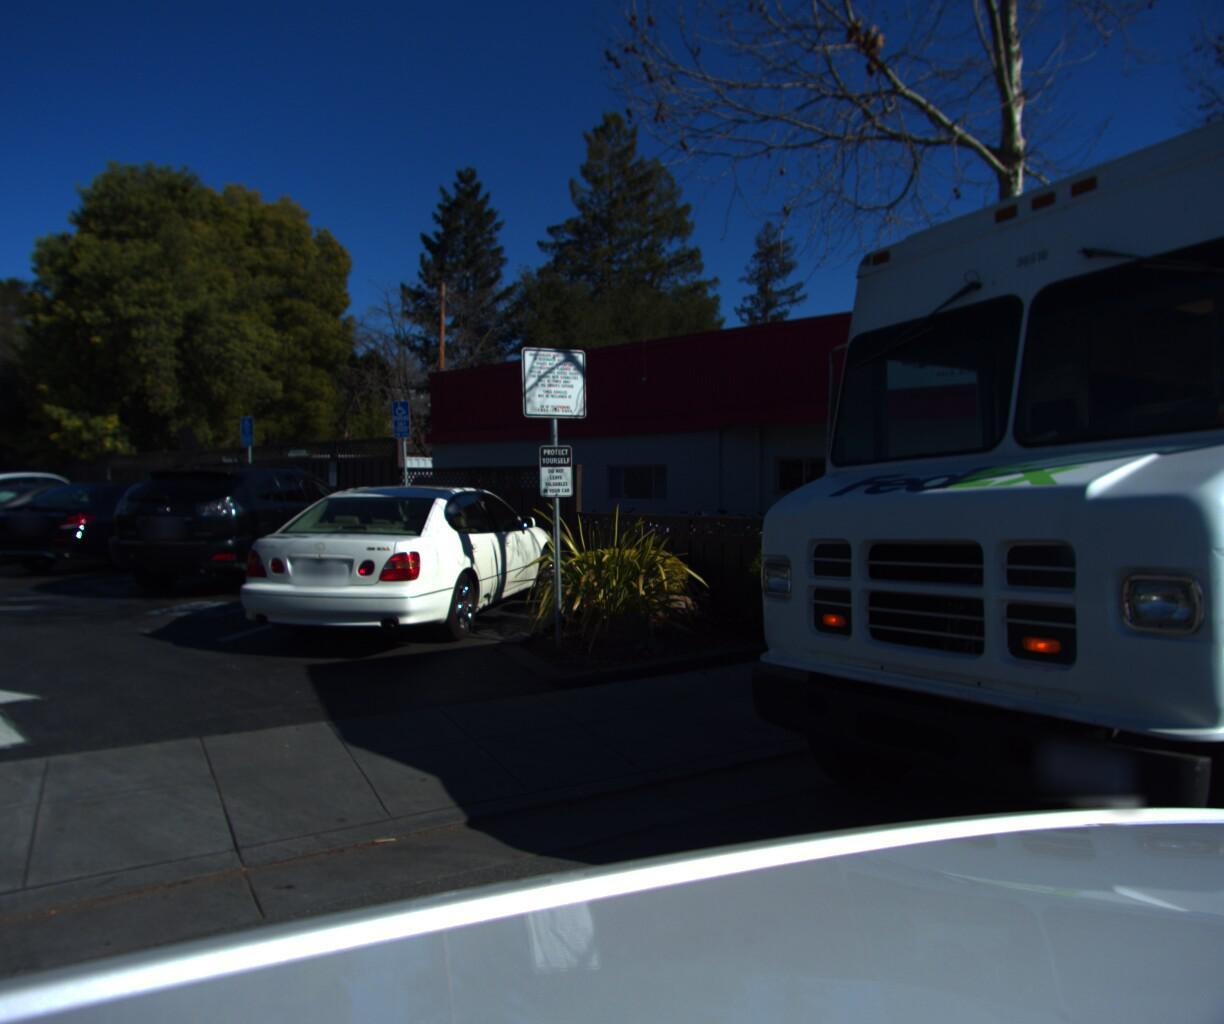bicycle: (735, 516, 822, 619), (723, 515, 809, 617), (706, 515, 792, 614), (688, 514, 775, 611), (666, 513, 752, 608), (642, 513, 730, 605), (606, 511, 693, 600), (625, 513, 712, 602), (586, 510, 673, 597), (677, 501, 727, 567)
car: (195, 479, 567, 669), (77, 456, 388, 607)
